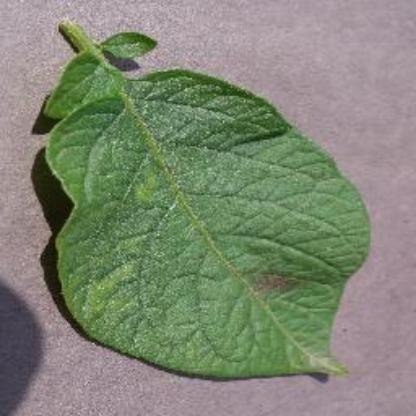Late-Blight: (32, 7, 378, 384)
